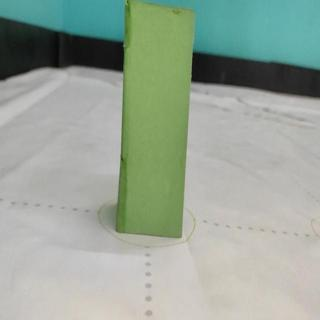greenbox: (118, 0, 197, 238)
